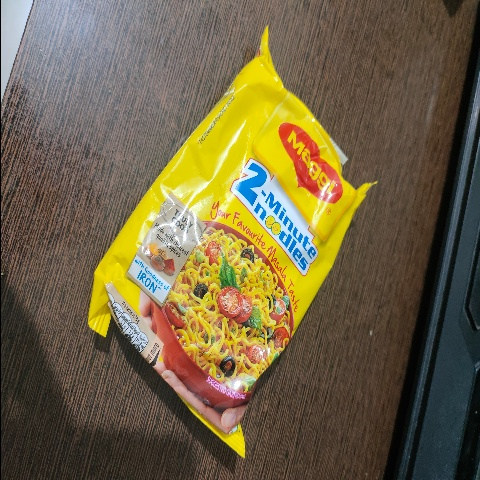maggi: (54, 38, 347, 457)
